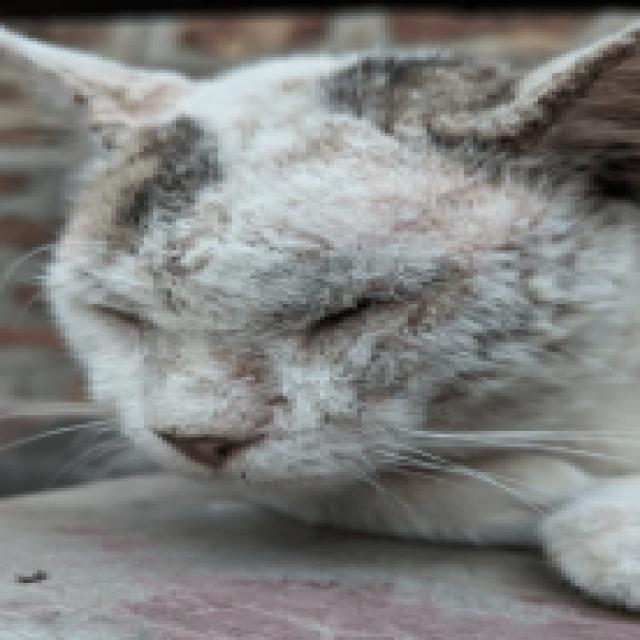Mange: (397, 248, 488, 329), (224, 339, 304, 404)
